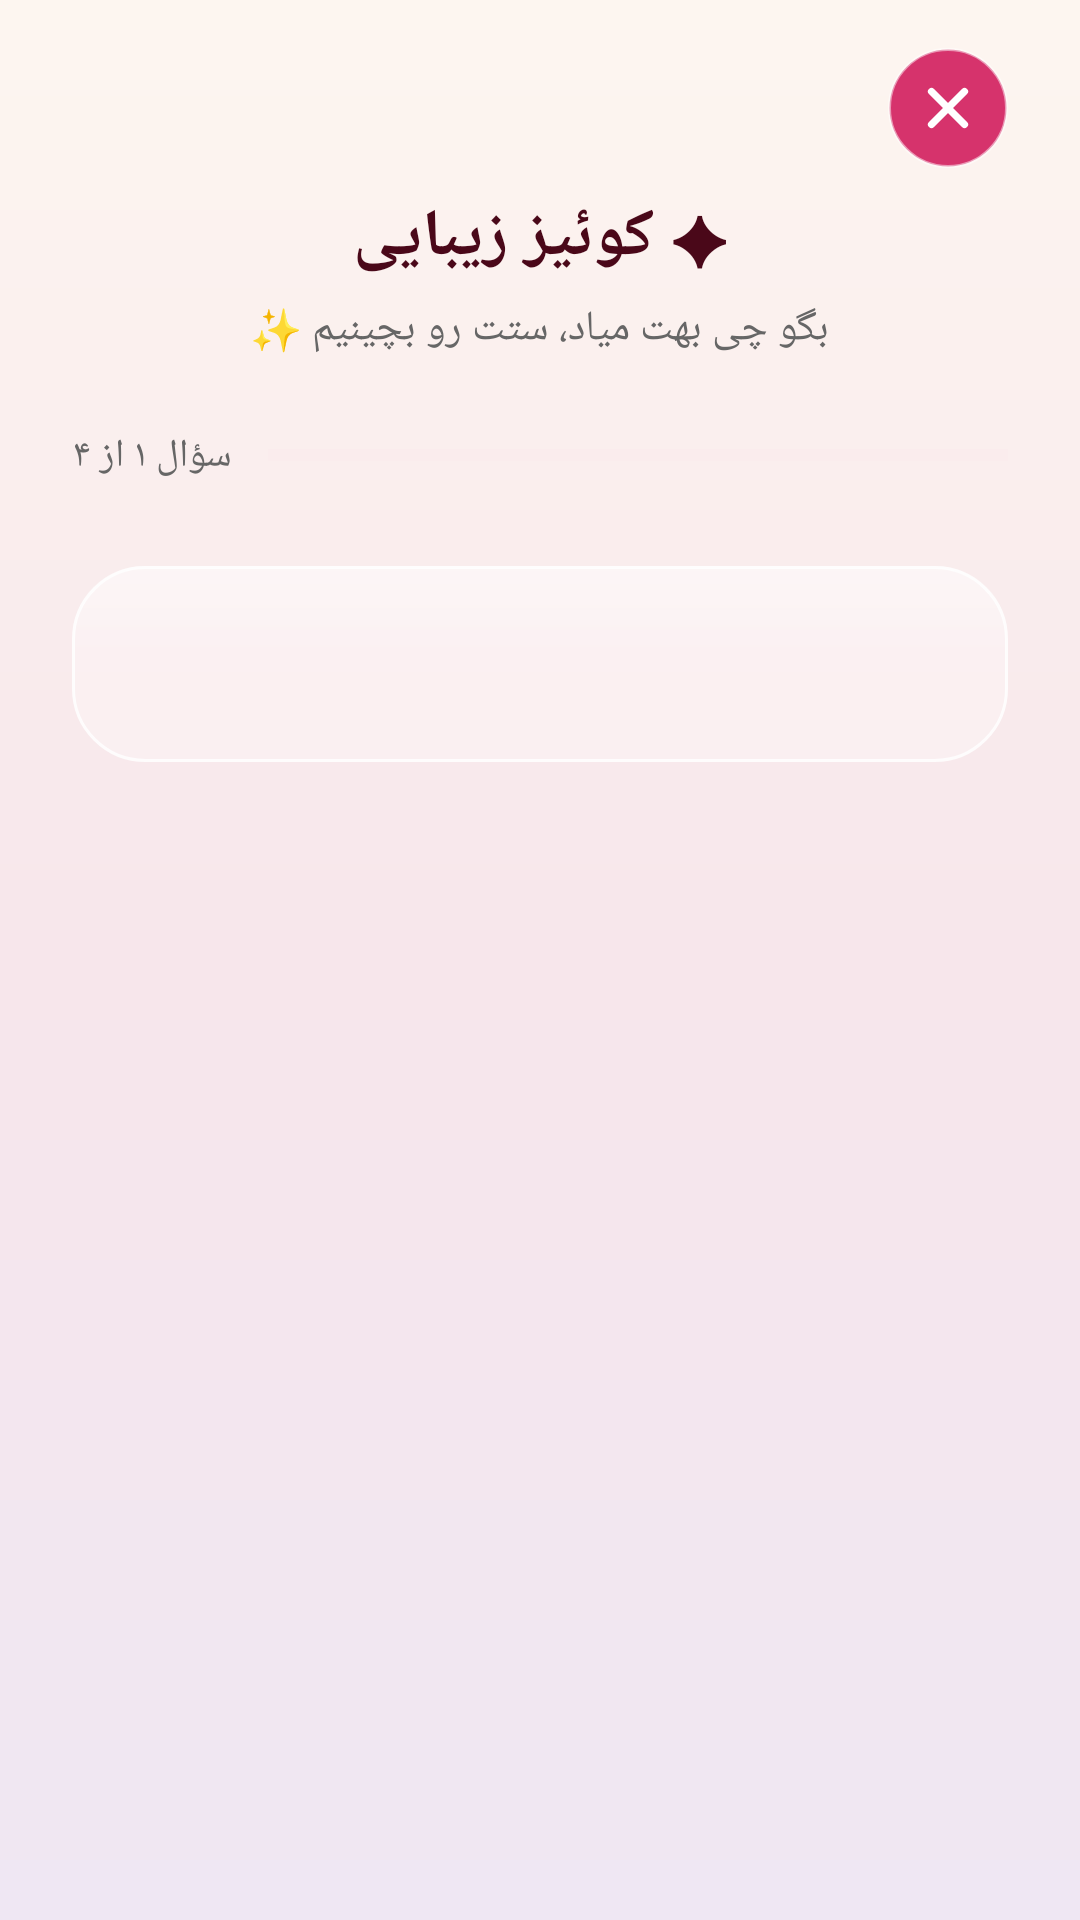

Icons on this 1080×1920 Android screen, each with the point to tap as (x,y):
بستن: (948,108)
